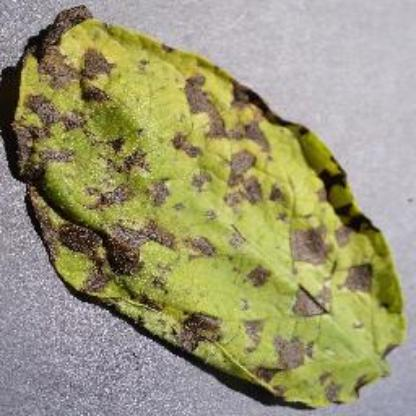Early-Blight: (6, 1, 416, 413)
